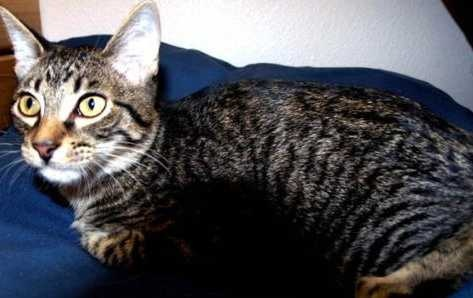Cat: (146, 80, 472, 294), (0, 1, 164, 264)
